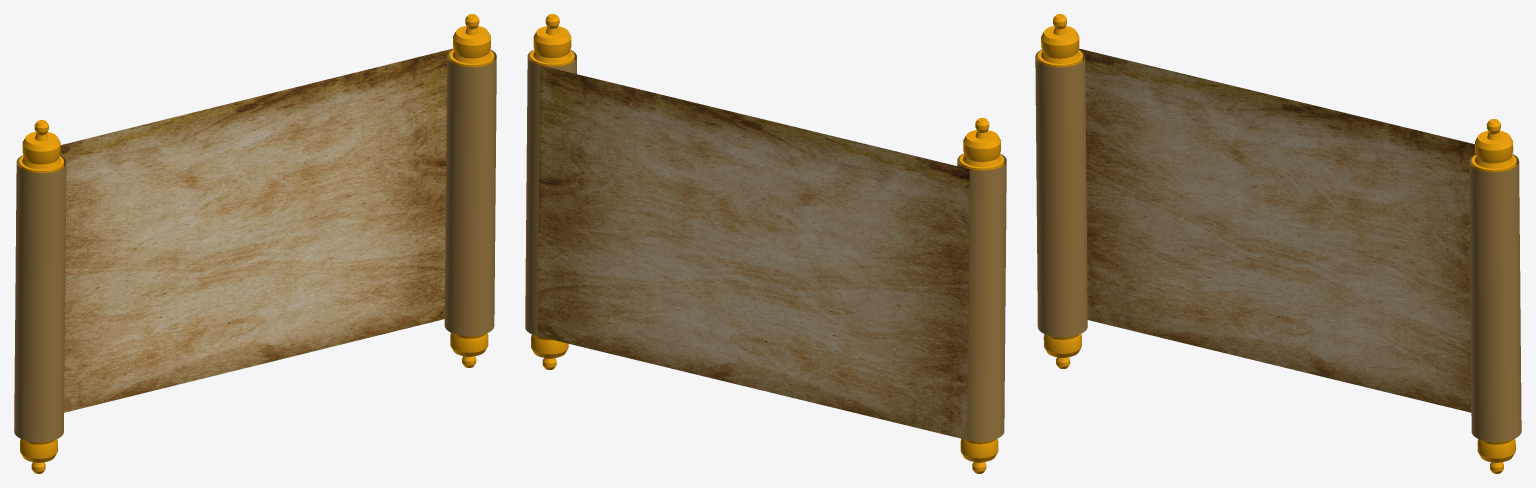
Rendered from scroll2.glb.
3 views of the same model, side by side, from view 1: azimuth 30°, elevation 25°; view 2: azimuth 150°, elevation 25°; view 3: azimuth 330°, elevation 25° (orthographic).
Parts seen in each view (by area): view 1: Object_2, Object_5, Object_3; view 2: Object_2, Object_5, Object_3; view 3: Object_2, Object_5, Object_3.
Boxes of the visible parts, <box> form: Object_2: <box>60,48,453,412</box>; Object_5: <box>14,49,496,442</box>; Object_3: <box>19,14,494,462</box>; Object_2: <box>537,65,969,439</box>; Object_5: <box>525,49,1006,441</box>; Object_3: <box>530,14,1004,462</box>; Object_2: <box>1079,48,1475,412</box>; Object_5: <box>1035,49,1521,442</box>; Object_3: <box>1037,14,1516,473</box>.
Size of the model in its own units: 11 by 7.81 by 1.14.
3 materials, 1 textured.
